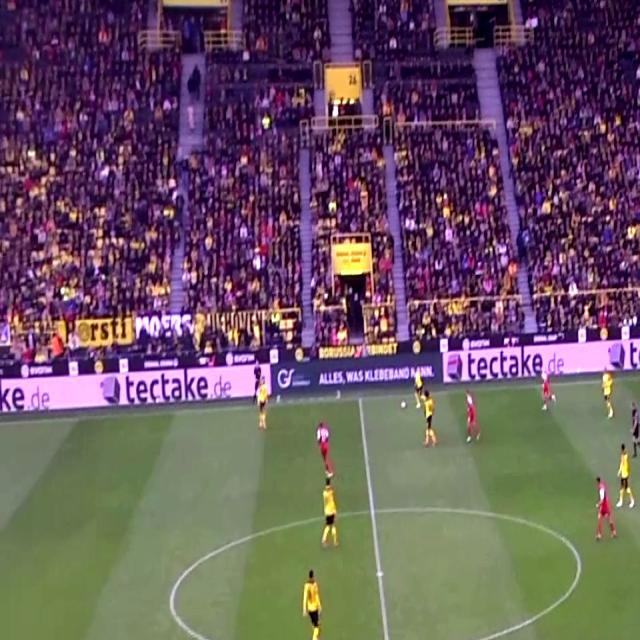ball: (400, 396, 409, 416)
referee: (627, 395, 640, 460)
soccer-player: (295, 566, 327, 640), (590, 470, 616, 553), (321, 470, 342, 553), (255, 358, 274, 437), (460, 388, 485, 448), (316, 412, 338, 480), (619, 437, 638, 514), (539, 355, 558, 420), (419, 389, 440, 446), (597, 359, 613, 420), (411, 362, 428, 415)
